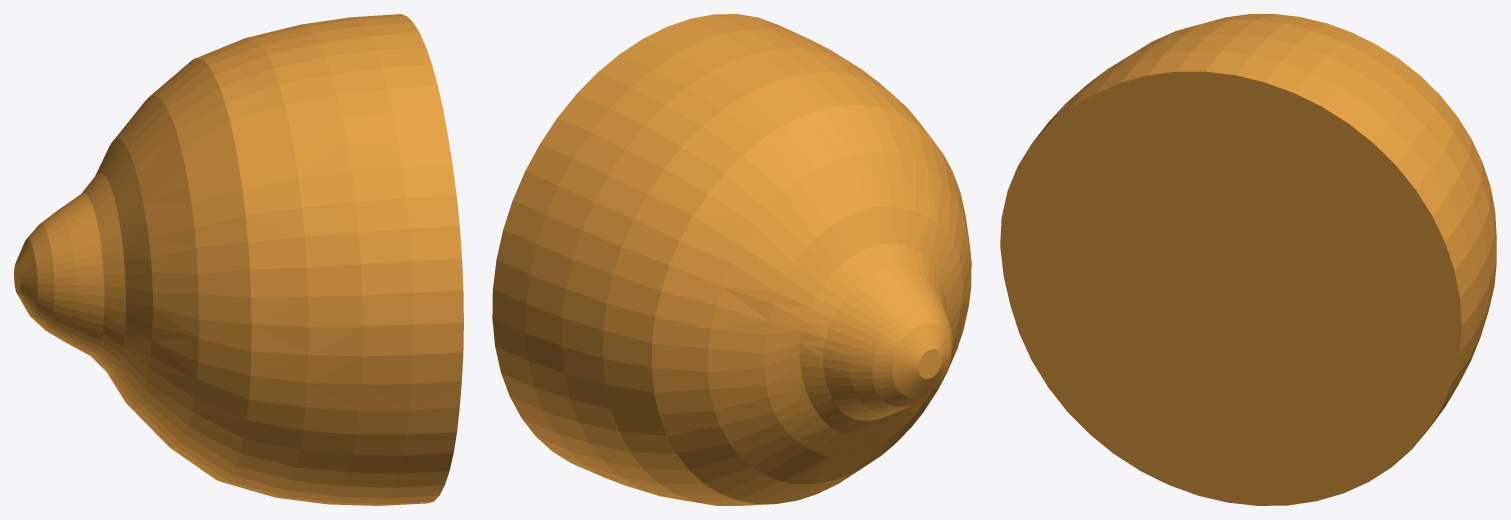
3 renders of one model, left to right at view 1: azimuth 30°, elevation 25°; view 2: azimuth 150°, elevation 25°; view 3: azimuth 270°, elevation 25°, orthographic. The views are drawn at different scales.
Parts seen in each view (by area): view 1: node; view 2: node; view 3: node.
Boxes of the visible parts, x1,y1,x2,y2 form: node: (14, 14, 463, 505); node: (492, 14, 971, 505); node: (1000, 14, 1496, 505).
Size of the model in its own units: 31.07 by 34 by 32.86.
